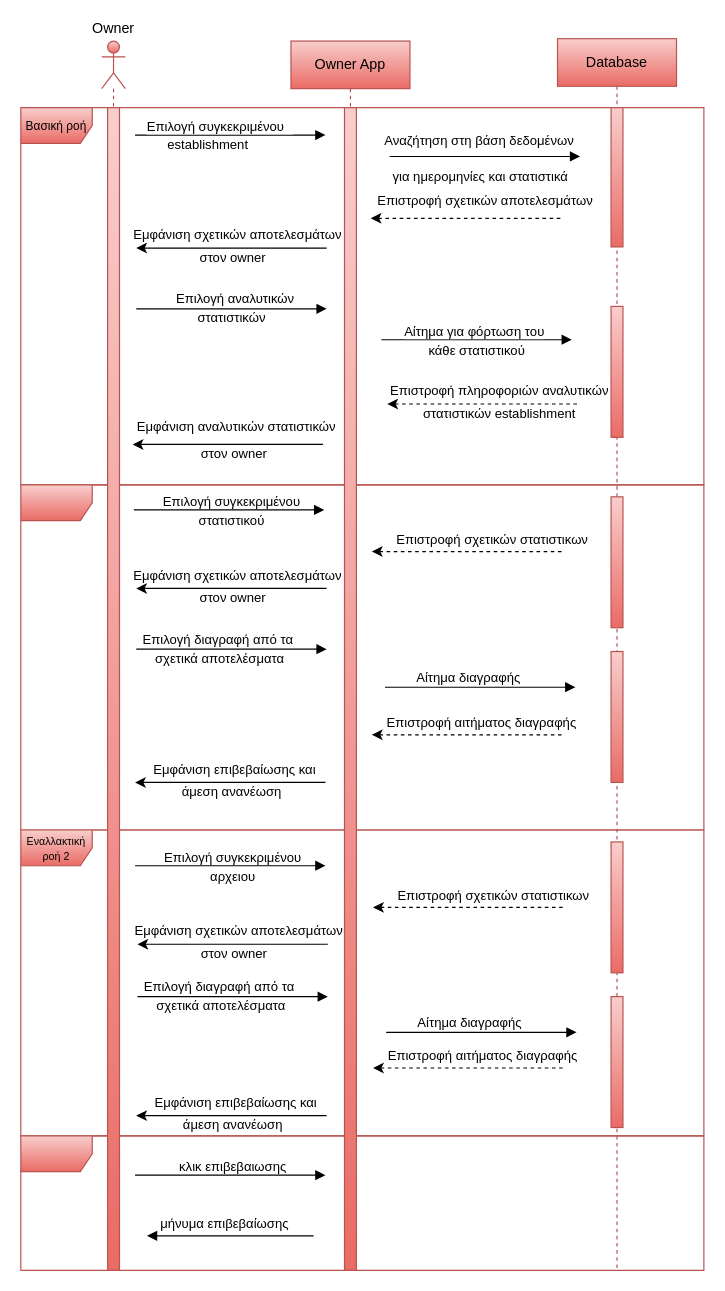
This 725x1291 diagram has some shape labels left out. Each missing label, with the centre of its shape:
"Εναλλακτική ροή 1" goes at pixel 362 657.
"Εναλλακτική ροή 3" goes at pixel 362 1202.
